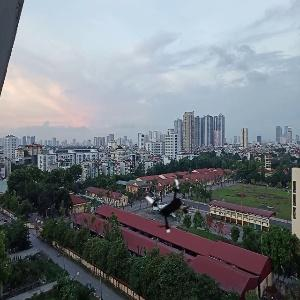drone: (140, 177, 197, 234)
